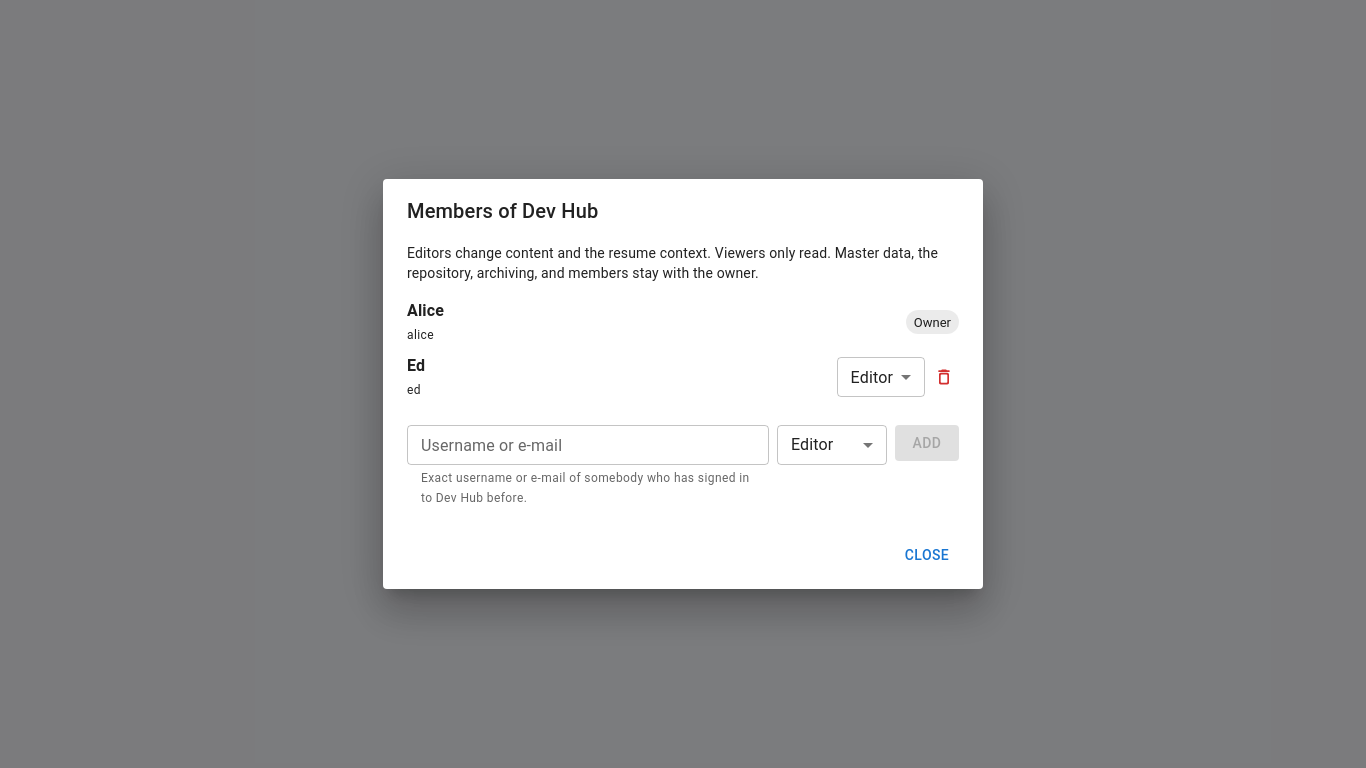
Test case: ProjectMembersDialog › reports why a user could not be added
The image size is (1366, 768).
Check: the text "Ed" is shown, box [407,354,425,378]
Type "nobody" into the field labelled "Username or e-mail" at (588, 445), box [407,425,769,465]
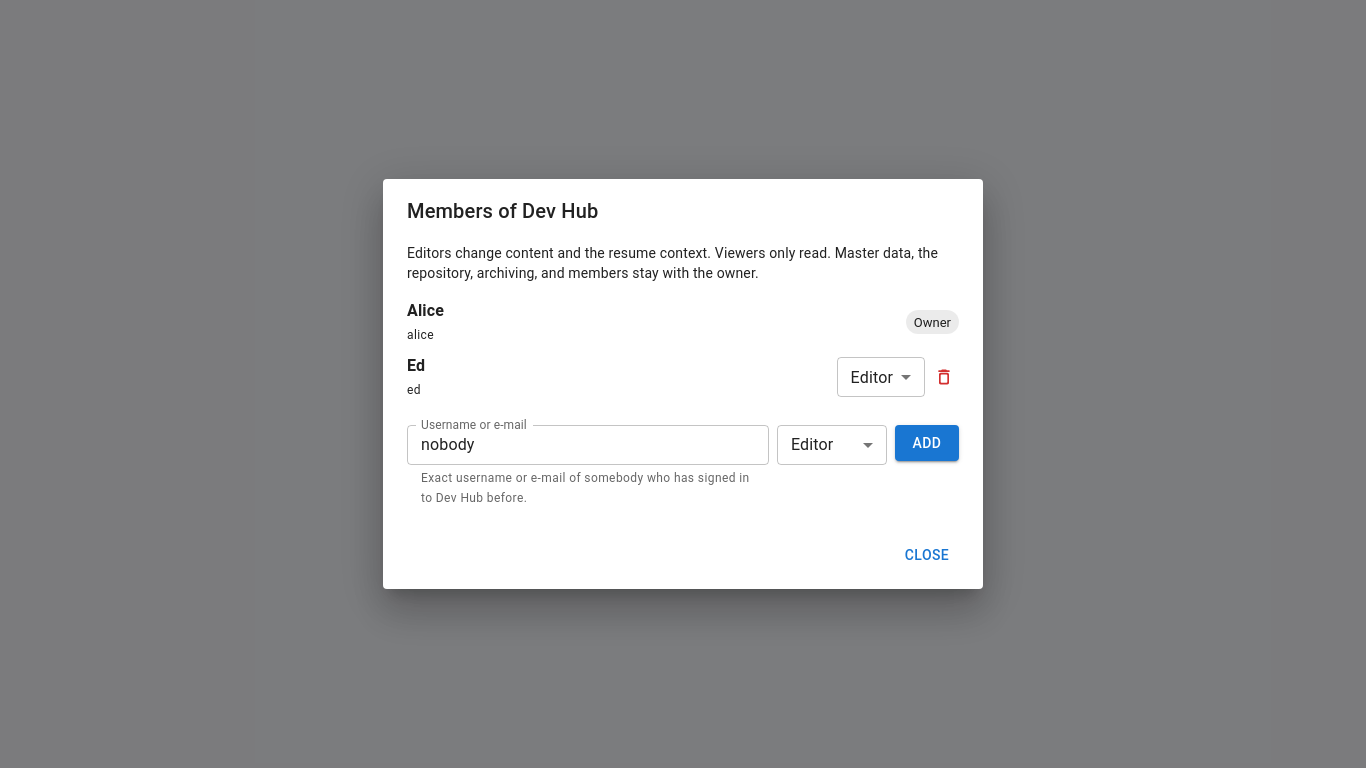
Click the button "Add" at (927, 443), box [895,425,959,461]
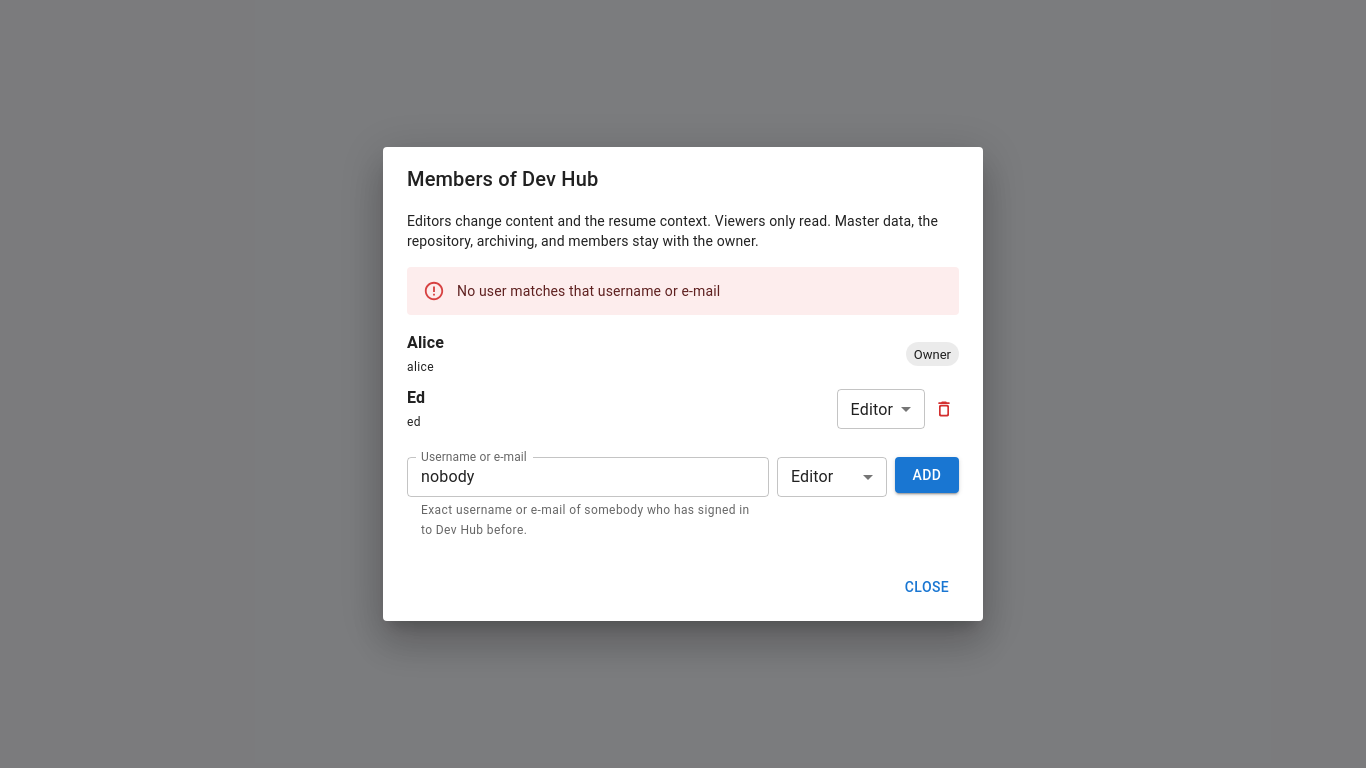
Check: the text "No user matches that username or e-mail" is shown, box [457,283,720,299]
